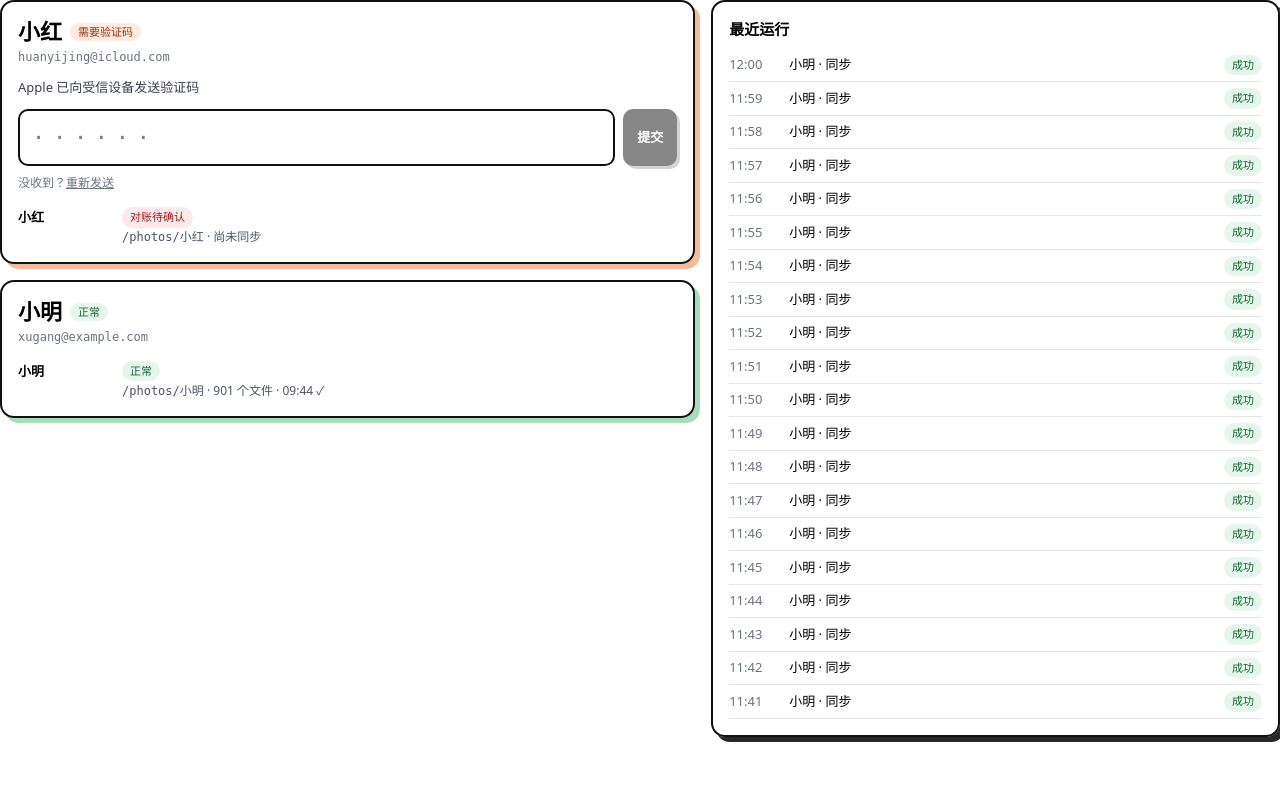
Overview › runs grid shows 20 rows newest first and opens the drawer
The width and height of the screenshot is (1280, 800).
Click the button "12:00 小明 · 同步 成功": (746, 64) [729,48,1262,82]
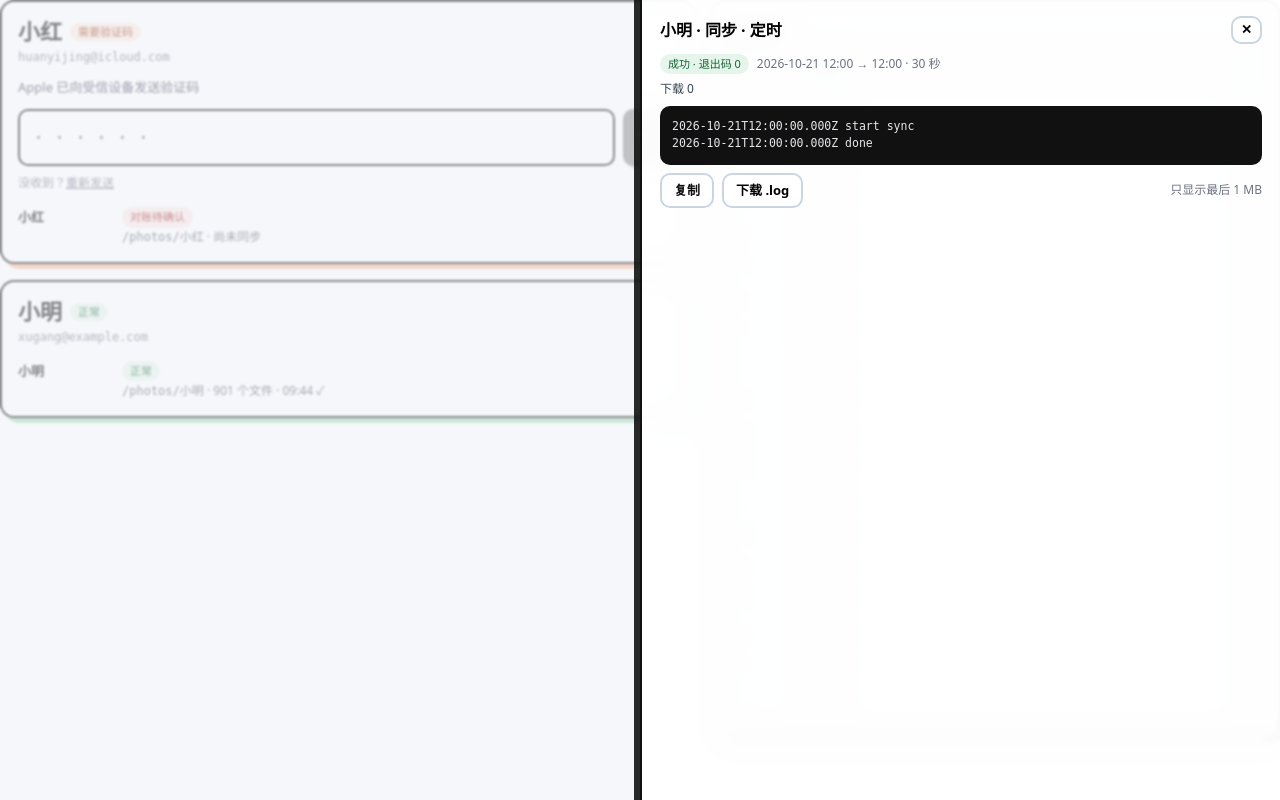
expect the text "小明 · 同步 · 定时" is shown: met, box [660,19,782,41]
expect the text "start sync" is shown: met, box [672,119,914,150]
